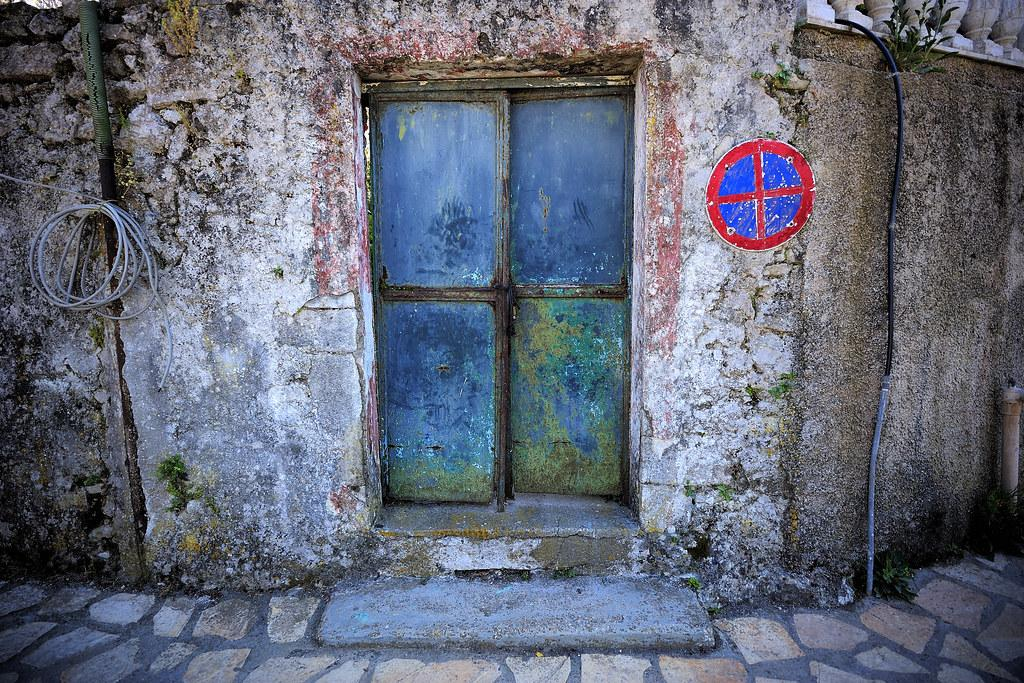door: (365, 79, 635, 510)
